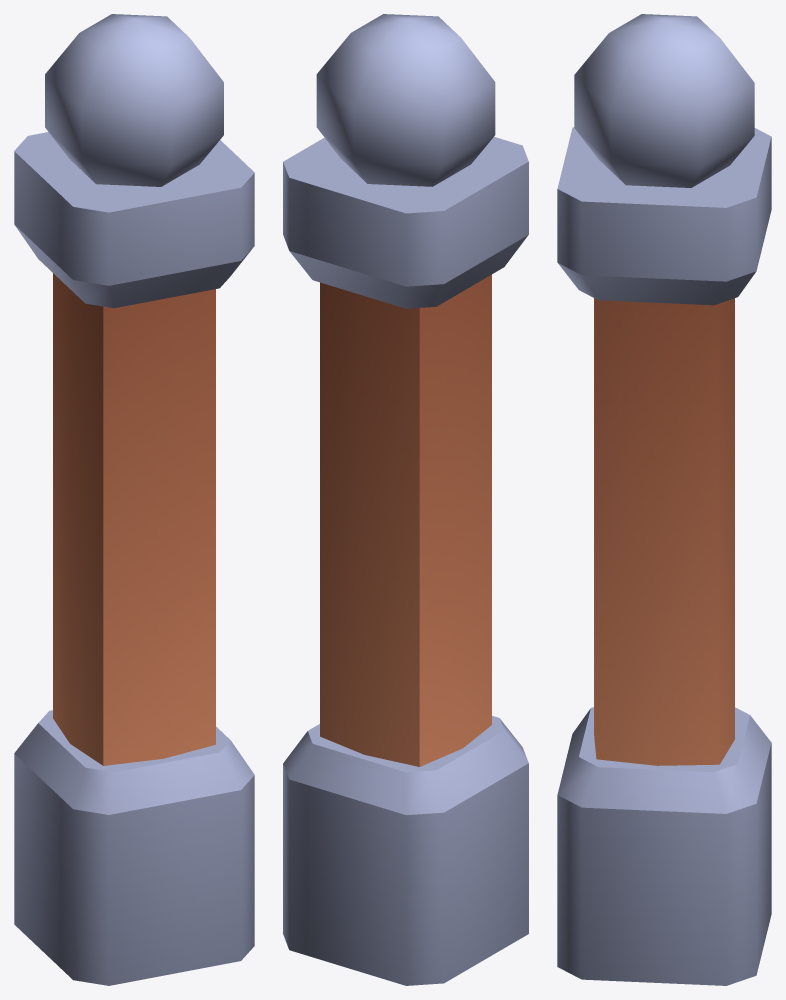
Rendered from pillar-large.001_lev2.glb.
The picture shows the model from 3 angles, left to right: view 1: azimuth 30°, elevation 25°; view 2: azimuth 150°, elevation 25°; view 3: azimuth 270°, elevation 25°; orthographic projection.
Visible parts, largest first — view 1: pillar-large.001_lev2; view 2: pillar-large.001_lev2; view 3: pillar-large.001_lev2.
Boxes of the visible parts, x1,y1,x2,y2 form: pillar-large.001_lev2: (14,14,254,985); pillar-large.001_lev2: (283,14,528,985); pillar-large.001_lev2: (557,14,771,985).
Size of the model in its own units: 1.9 by 9 by 1.9.
1 material, 1 textured.
